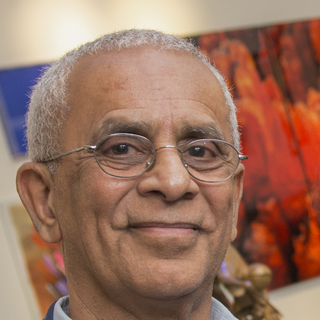eye: (98, 139, 146, 162), (178, 142, 227, 164)
